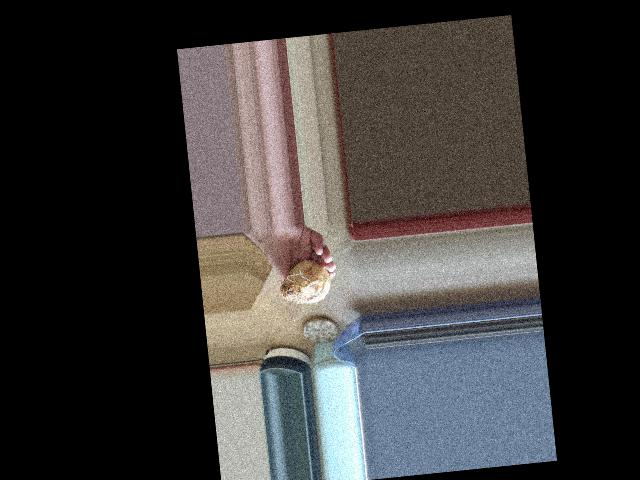onion: (280, 257, 334, 310)
